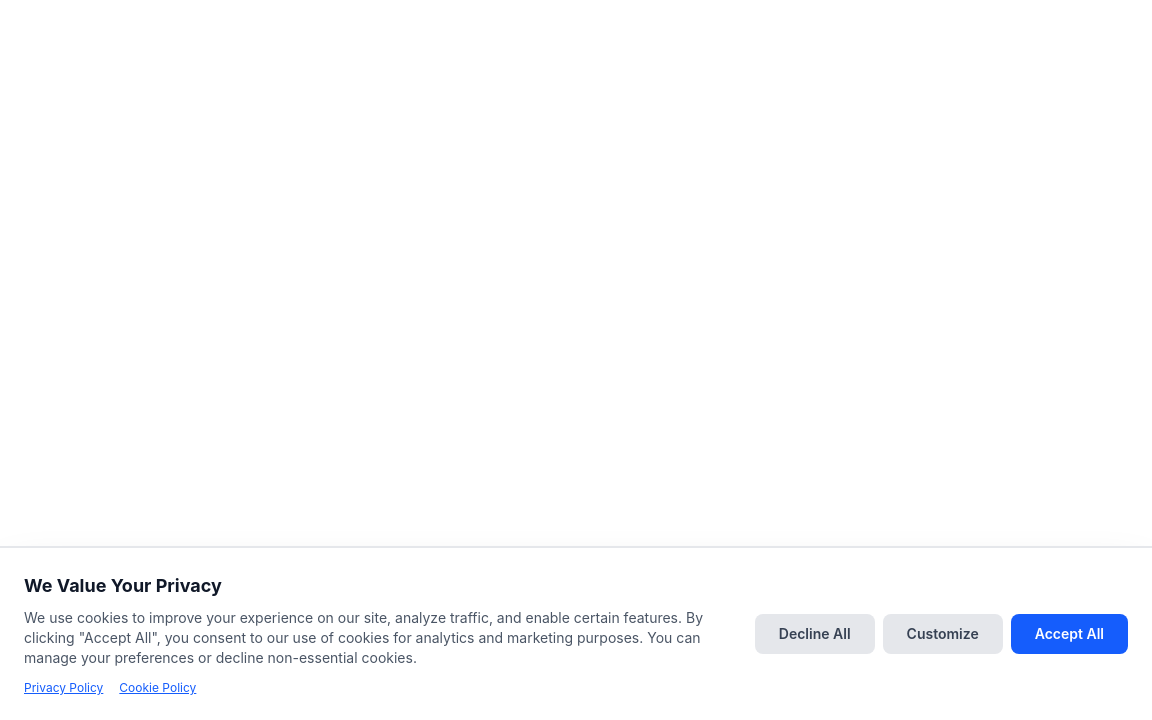
it: CookieConsent component › should display all cookie categories in preferences modal
What coordinates should you click on to do the following:
click the button "Customize"
I would click on:
 (943, 634)
Its box is [883,614,1003,654].
(page scrolled)
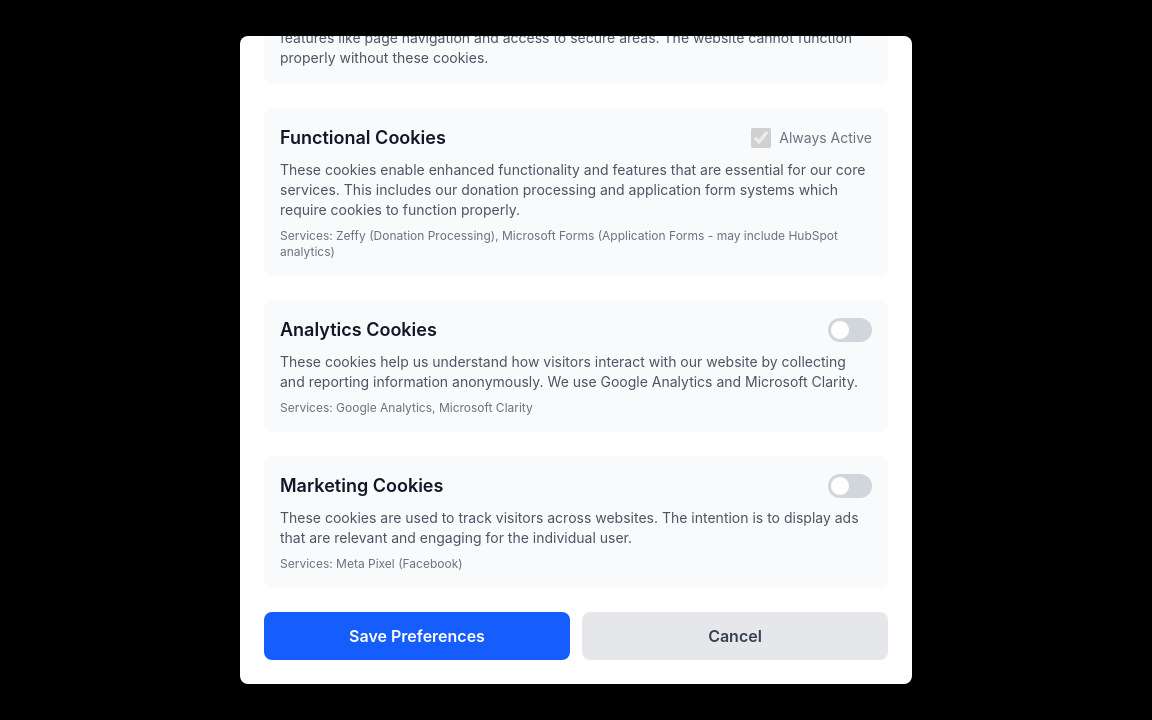
Expected: the heading "Functional Cookies" is shown, [280,124,446,152]
Expected: the heading "Analytics Cookies" is shown, [280,316,437,344]
Expected: the heading "Marketing Cookies" is shown, [280,472,443,500]
